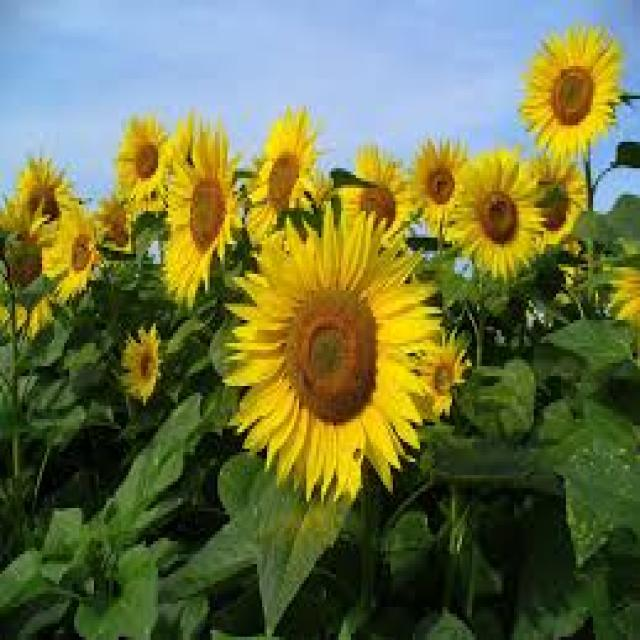sunflower: (219, 195, 448, 507), (512, 17, 628, 171), (159, 102, 246, 306), (440, 144, 552, 277), (244, 100, 331, 243), (328, 134, 413, 247), (512, 151, 594, 243), (6, 142, 78, 246), (113, 108, 177, 219), (404, 132, 474, 228), (42, 201, 104, 304), (407, 330, 473, 420), (115, 320, 170, 413), (0, 208, 52, 297), (92, 189, 140, 261), (601, 246, 640, 332), (2, 297, 57, 343)
